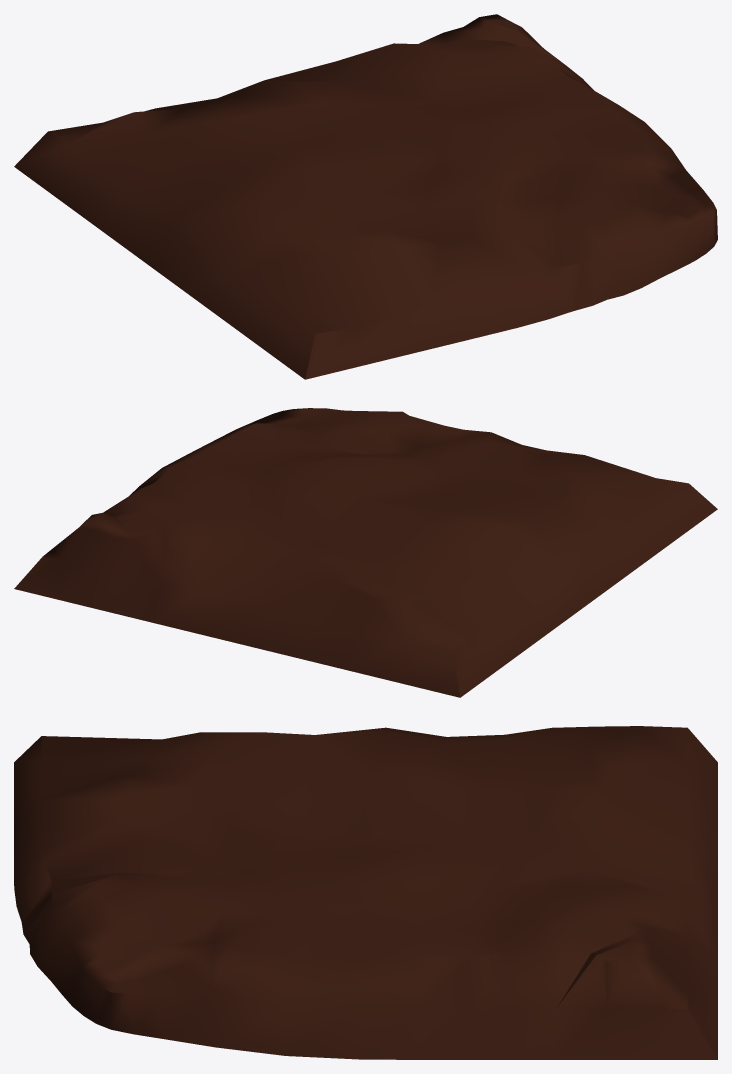
The model's file is Soil Test Corner.fbx.
3 views of the same model, one above another, from view 1: azimuth 30°, elevation 25°; view 2: azimuth 150°, elevation 25°; view 3: azimuth 270°, elevation 25° (orthographic). The views are drawn at different scales.
Visible parts, largest first — view 1: Soil_Test_Corner; view 2: Soil_Test_Corner; view 3: Soil_Test_Corner.
Boxes of the visible parts, left/top/right/bottom form: Soil_Test_Corner: left=14, top=14, right=717, bottom=379; Soil_Test_Corner: left=14, top=408, right=717, bottom=697; Soil_Test_Corner: left=14, top=726, right=717, bottom=1059.
Size of the model in its own units: 100 by 13.17 by 100.
Materials: 1 (1 with a texture image).
